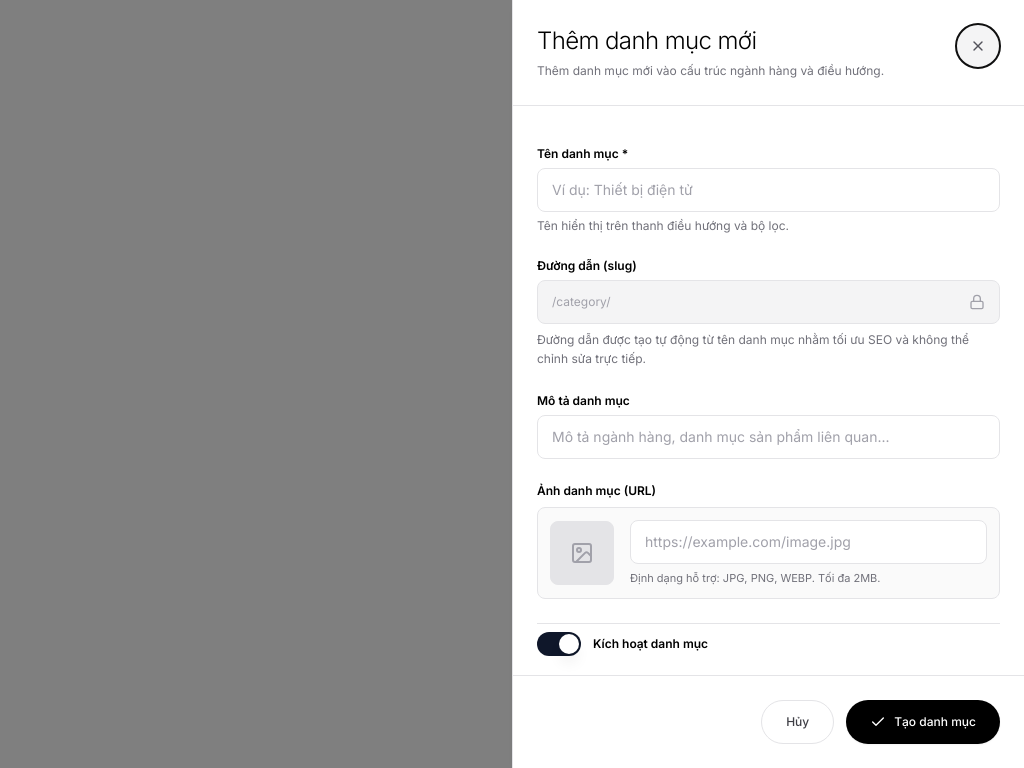
CategoryFormDrawer Component (Stitch Screen 3) › renders create mode with empty fields and live auto-slug
Expected: the heading "Thêm danh mục mới" is shown, [537,26,756,55]
Expected: the field labelled "Đường dẫn (slug)" is disabled, [610,292,969,312]
Type Vietnamese name and verify transliteration preview
Type "Thiết Bị Điện Tử" into the field labelled "Tên danh mục *" at {"x": 768, "y": 190}, box [537,168,1000,212]
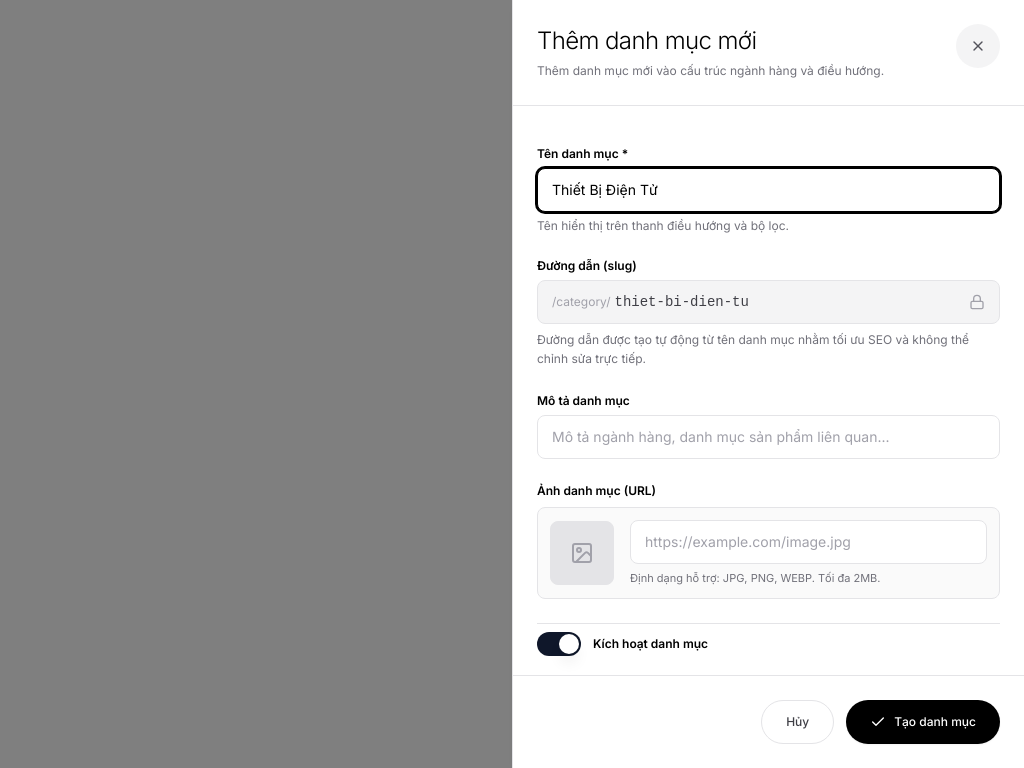
Expected: the field labelled "Đường dẫn (slug)" holds "thiet-bi-dien-tu", [610,292,969,312]
